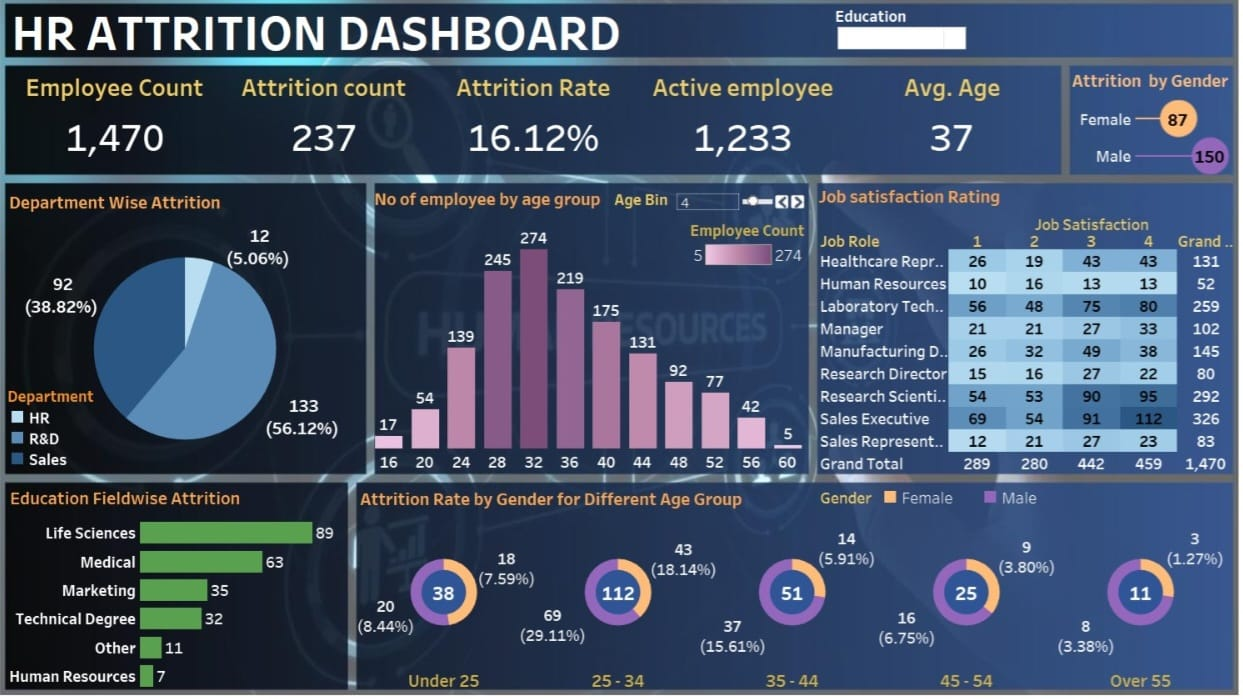

The page's visual inventory and layout, read from the dashboard file:
{"tool":"tableau","page":{"name":"HR analytics Dashboard","canvas":[1000,1000],"units":"permille","ordinal":0},"visuals":[{"type":"image","param":"Image/HR background.pptx.jpg","box":[5.2,9.3,989.7,981.4]},{"type":"text","box":[27.1,20.9,518.1,77.9]},{"type":"filter","title":"Department Wise Attrition","param":"[federated.01hqwfk1vnnp3219nrvc00uuwd3k].[none:Education:nk]","box":[667.1,23.3,103.2,61.6]},{"type":"worksheet","title":"Attrition  by Gender","mark":"Automatic","rows":["Gender"],"cols":["Calculation_601230583174197248","Calculation_601230583174197248"],"box":[847.7,107,127.1,152.3]},{"type":"worksheet","title":"KPI","mark":"Automatic","box":[28.4,112.8,810.3,139.5]},{"type":"worksheet","title":"Job satisfaction Rating","mark":"Square","rows":["Job Role"],"cols":["Job Satisfaction"],"box":[651.6,268.6,324.5,409.3]},{"type":"worksheet","title":"No of employee by age group","mark":"Automatic","rows":["Employee Count"],"cols":["Age (bin)"],"box":[307.7,272.1,336.8,403.5]},{"type":"worksheet","title":"Department Wise Attrition","mark":"Pie","box":[25.2,276.7,277.4,402.3]},{"type":"parameter","param":"[Parameters].[Parameter 1]","box":[496.1,282.6,149,33.7]},{"type":"legend","title":"No of employee by age group","param":"[federated.01hqwfk1vnnp3219nrvc00uuwd3k].[sum:Employee Count:qk]","box":[554.8,322.1,89.7,79.1]},{"type":"legend","title":"Department Wise Attrition","param":"[federated.01hqwfk1vnnp3219nrvc00uuwd3k].[none:Department:nk]","box":[26.4,553.5,90.3,117.4]},{"type":"worksheet","title":"Education Fieldwise Attrition","mark":"Automatic","rows":["Education Field"],"cols":["Calculation_601230583174197248"],"box":[25.8,689.5,263.9,289.5]},{"type":"worksheet","title":"Attrition Rate by Gender for Different Age Group ","mark":"Pie","rows":["Calculation_601230583205728260","Calculation_601230583205728260"],"cols":["CF_age band"],"box":[296.8,690.7,674.2,291.9]},{"type":"legend","title":"Attrition Rate by Gender for Different Age Group ","param":"[federated.01hqwfk1vnnp3219nrvc00uuwd3k].[none:Gender:nk]","box":[655.5,695.4,297.4,38.4]}]}

Visuals, with their boxes on the dashboard's canvas, which has no fixed pixel size, in thousandths of its width and height (x1, y1, x2, y2). These are canvas units, not pixel positions in the 1243x699 screenshot, which may show the page scaled, cropped or inside an application window:
image: [5, 9, 995, 991]
text: [27, 21, 545, 99]
"Department Wise Attrition" filter: [667, 23, 770, 85]
"Attrition  by Gender" worksheet: [848, 107, 975, 259]
"KPI" worksheet: [28, 113, 839, 252]
"Job satisfaction Rating" worksheet (Square marks): [652, 269, 976, 678]
"No of employee by age group" worksheet: [308, 272, 644, 676]
"Department Wise Attrition" worksheet (Pie marks): [25, 277, 303, 679]
parameter: [496, 283, 645, 316]
"No of employee by age group" legend: [555, 322, 644, 401]
"Department Wise Attrition" legend: [26, 554, 117, 671]
"Education Fieldwise Attrition" worksheet: [26, 690, 290, 979]
"Attrition Rate by Gender for Different Age Group " worksheet (Pie marks): [297, 691, 971, 983]
"Attrition Rate by Gender for Different Age Group " legend: [656, 695, 953, 734]
